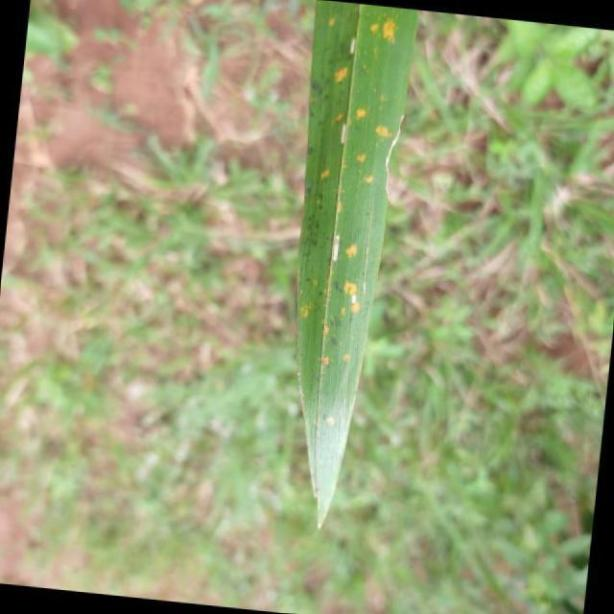Kalium: (291, 0, 413, 557)
